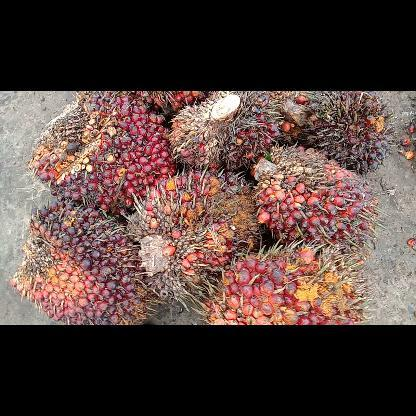TBS masak: (29, 91, 177, 216), (13, 210, 170, 324), (127, 169, 265, 289), (254, 140, 382, 248), (209, 247, 366, 323), (167, 91, 289, 169), (296, 91, 386, 173)
